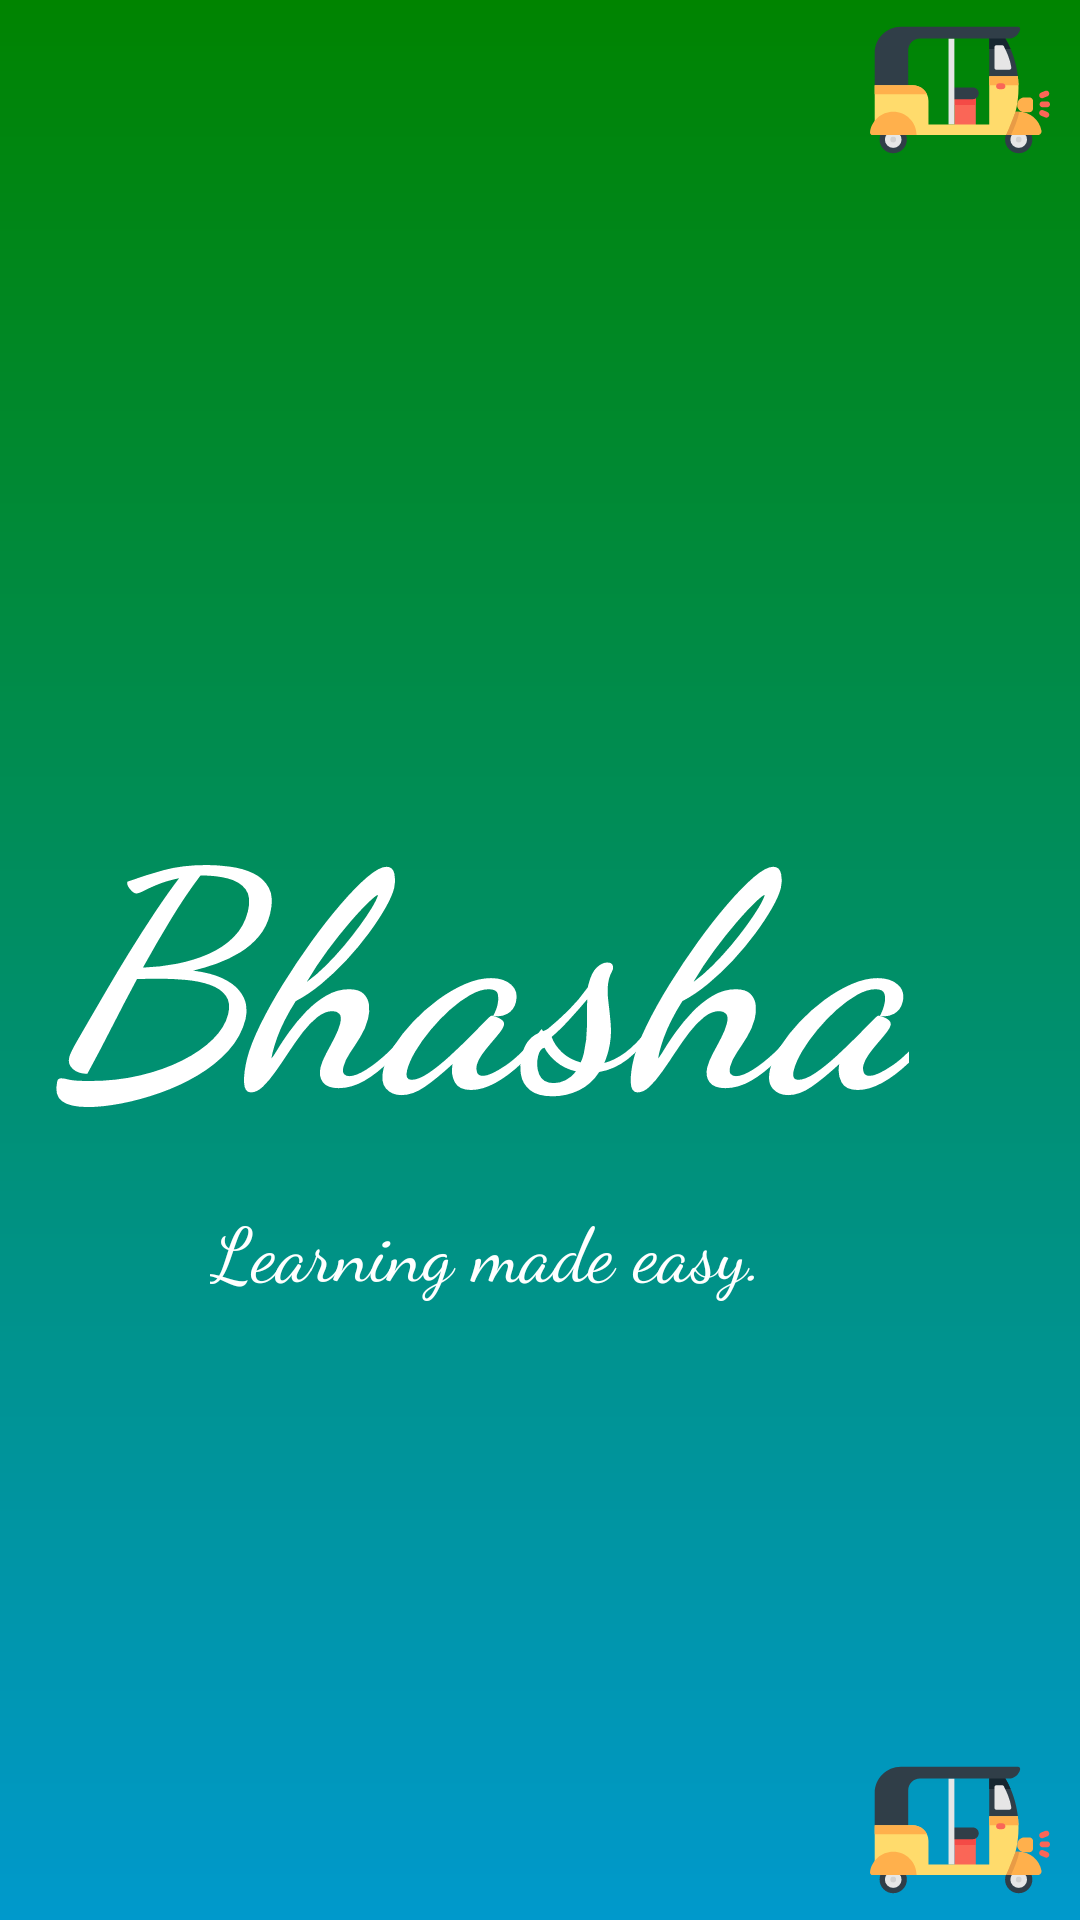

Locate icon controls on the screen. Image size 1080 x 1920, boxes as (x1, y1, x2, y2).
rickshaw: (870, 27, 1050, 154), (870, 1766, 1050, 1893)
